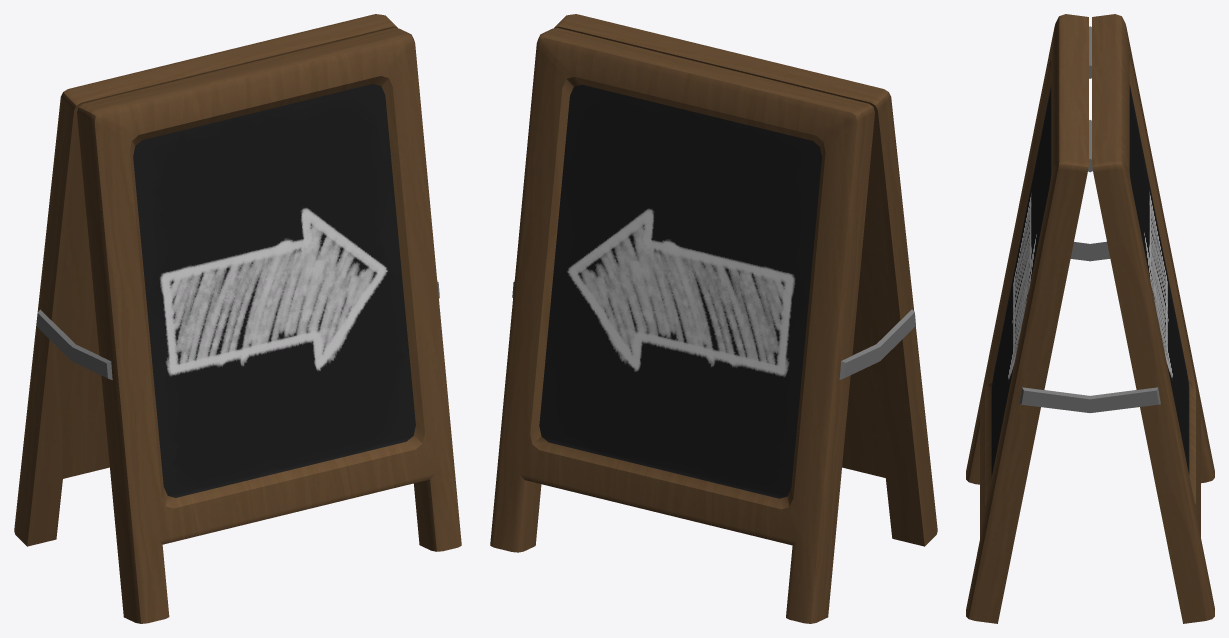
Rendered from sandwich board.glb.
3 views of the same model, side by side, from view 1: azimuth 30°, elevation 25°; view 2: azimuth 150°, elevation 25°; view 3: azimuth 270°, elevation 25° (orthographic). The views are drawn at different scales.
Visible parts, largest first — view 1: Board_SandwichBoard_LOD0; view 2: Board_SandwichBoard_LOD0; view 3: Board_SandwichBoard_LOD0.
Boxes of the visible parts, x1,y1,x2,y2 form: Board_SandwichBoard_LOD0: (14,14,461,623); Board_SandwichBoard_LOD0: (490,14,937,623); Board_SandwichBoard_LOD0: (966,14,1214,623).
Size of the model in its own units: 0.494 by 0.6828 by 0.3343.
1 material, 1 textured.
